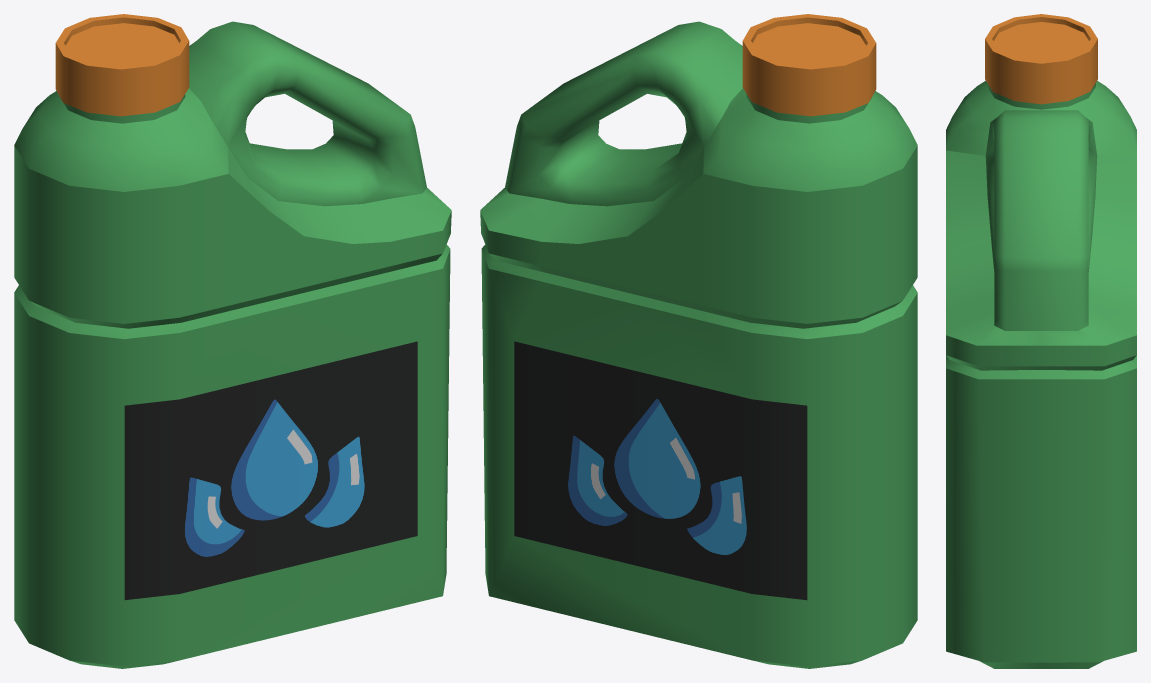
File: PlasticBottle_01.fbx
The picture shows the model from 3 angles, left to right: view 1: azimuth 30°, elevation 25°; view 2: azimuth 150°, elevation 25°; view 3: azimuth 270°, elevation 25°; orthographic projection. The views are drawn at different scales.
Visible parts, largest first — view 1: PlasticBottle_01, PlasticBottle_01_Cap; view 2: PlasticBottle_01, PlasticBottle_01_Cap; view 3: PlasticBottle_01, PlasticBottle_01_Cap.
Boxes of the visible parts, x1,y1,x2,y2 form: PlasticBottle_01: [14, 21, 451, 668]; PlasticBottle_01_Cap: [55, 14, 189, 116]; PlasticBottle_01: [480, 21, 917, 668]; PlasticBottle_01_Cap: [742, 14, 876, 116]; PlasticBottle_01: [946, 81, 1136, 668]; PlasticBottle_01_Cap: [985, 14, 1097, 104].
Size of the model in its own units: 0.3533 by 0.5191 by 0.1753.
